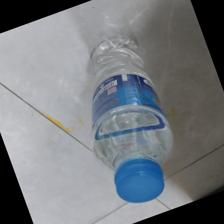Lavie: (86, 36, 176, 202)
